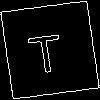T: (25, 25, 65, 75)
